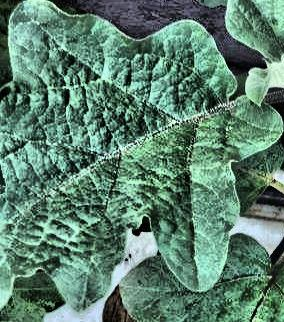HEALTHY: (1, 0, 284, 322)
